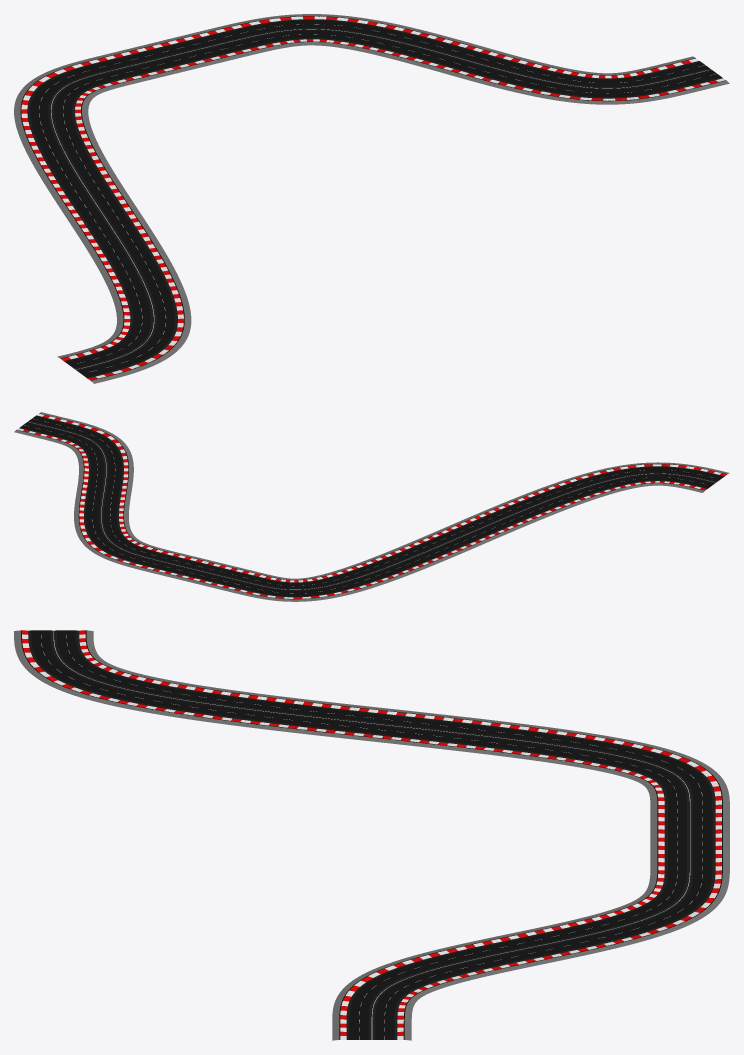
The model's file is S0.3c1-Mue.glb.
3 views of the same model, one above another, from view 1: azimuth 30°, elevation 25°; view 2: azimuth 150°, elevation 25°; view 3: azimuth 270°, elevation 25° (orthographic). The views are drawn at different scales.
Parts seen in each view (by area): view 1: Grid; view 2: Grid; view 3: Grid.
Boxes of the visible parts, <box> form: Grid: <box>14,14,729,383</box>; Grid: <box>14,412,729,601</box>; Grid: <box>14,630,729,1040</box>.
Size of the model in its own units: 305 by 0.31 by 225.
